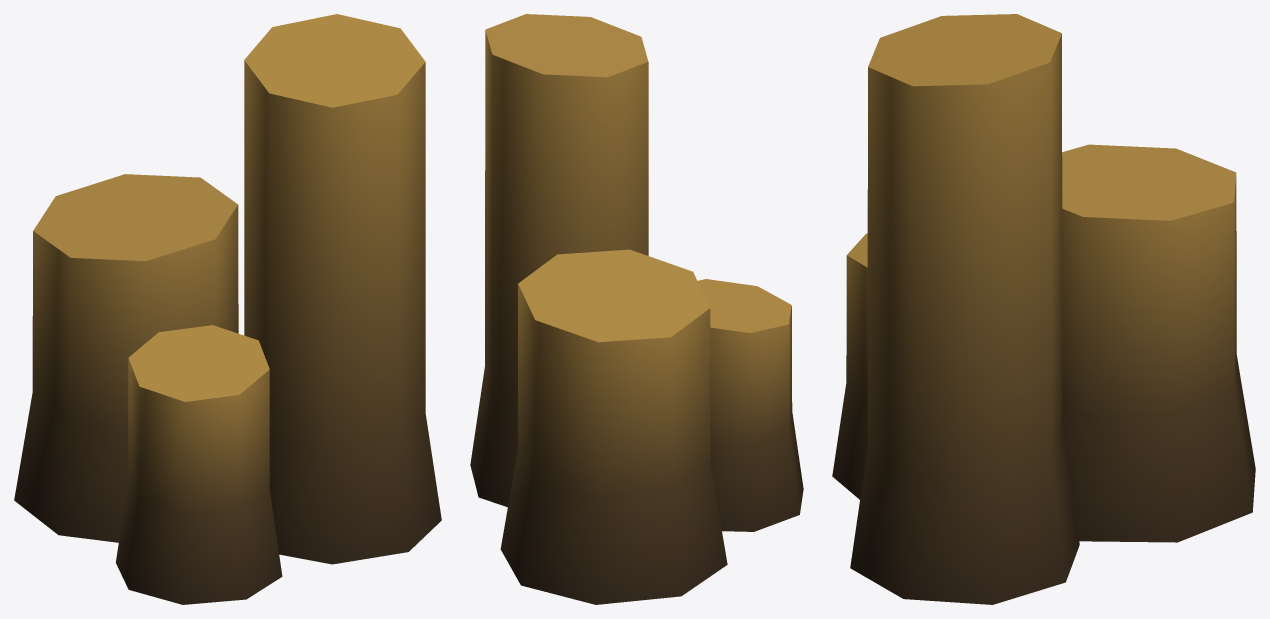
The model's file is SM_Candles_01.fbx.
The picture shows the model from 3 angles, left to right: view 1: azimuth 30°, elevation 25°; view 2: azimuth 150°, elevation 25°; view 3: azimuth 270°, elevation 25°; orthographic projection. The views are drawn at different scales.
Parts seen in each view (by area): view 1: SM_Candles_01; view 2: SM_Candles_01; view 3: SM_Candles_01.
Boxes of the visible parts, x1,y1,x2,y2 form: SM_Candles_01: (14, 14, 441, 604); SM_Candles_01: (470, 14, 803, 604); SM_Candles_01: (832, 14, 1255, 604).
Bounding box in the file's own units: 17.08 × 24.06 × 17.9.
